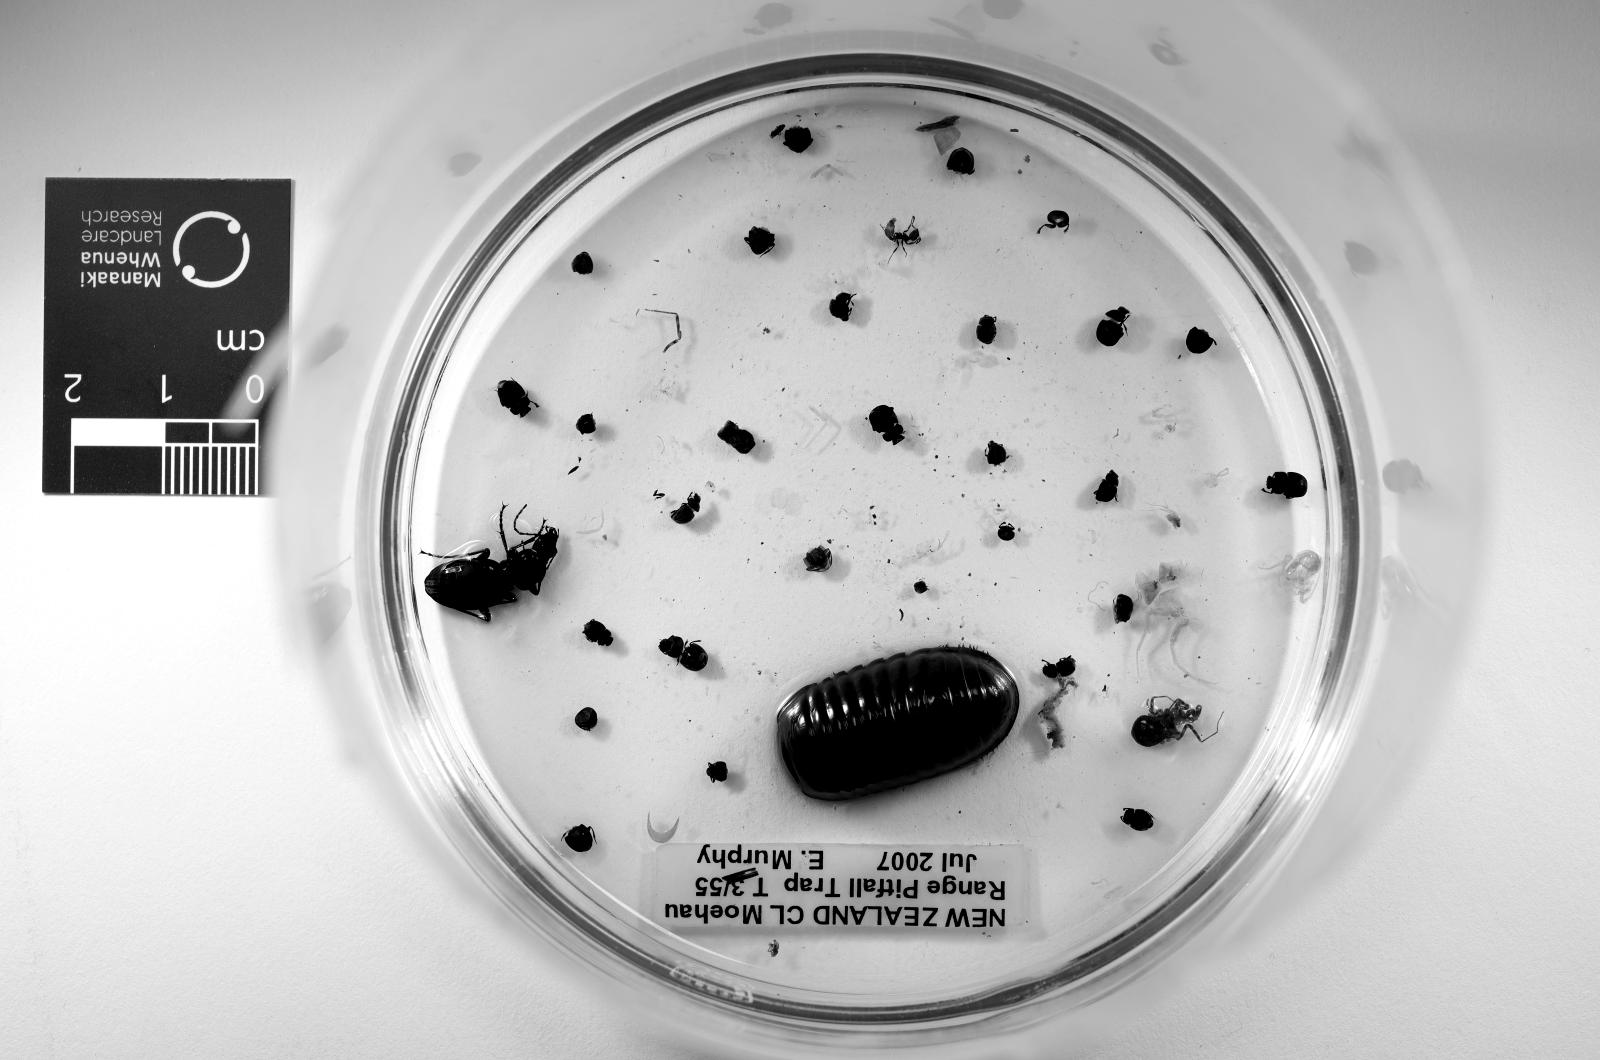carabidae: (425, 525, 559, 621)
coleoptera: (660, 636, 710, 671), (497, 379, 538, 416), (1097, 308, 1132, 348), (869, 403, 903, 444), (1265, 472, 1307, 500), (669, 493, 700, 525), (584, 618, 613, 646), (1122, 807, 1153, 833), (1094, 472, 1119, 503), (1044, 655, 1075, 680), (974, 317, 997, 344), (831, 292, 853, 319)
formicidae: (885, 218, 922, 252)
isopoda: (778, 646, 1018, 801)
opiliones: (1132, 699, 1203, 749)
